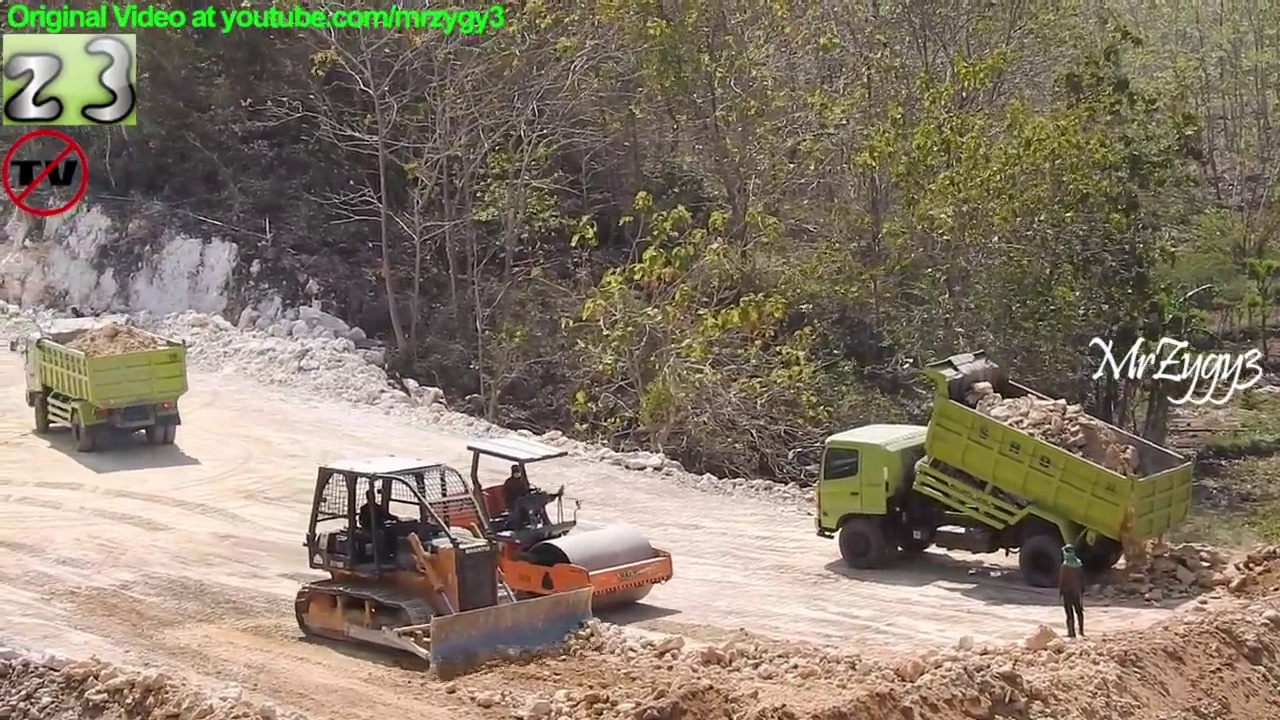bulldozer: (293, 455, 600, 677)
person: (1060, 543, 1092, 641), (507, 463, 534, 542), (362, 490, 388, 541)
truck: (816, 351, 1197, 595), (24, 317, 188, 446)
